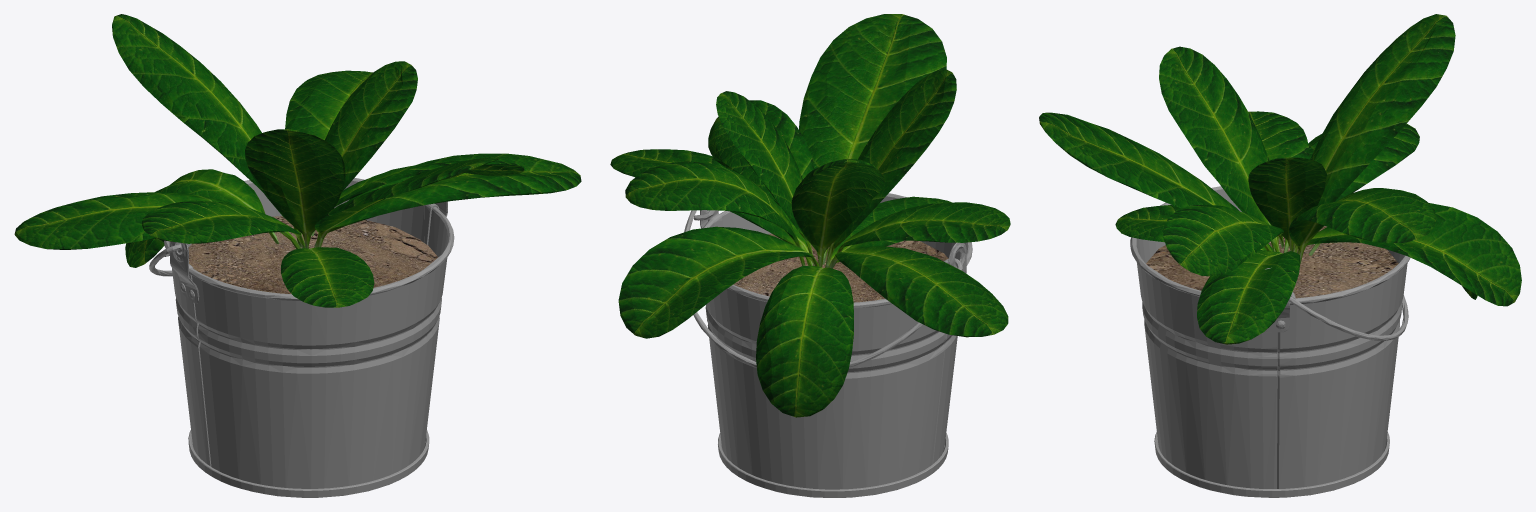
Rendered from Plant 1.FBX.
The picture shows the model from 3 angles, left to right: view 1: azimuth 30°, elevation 25°; view 2: azimuth 150°, elevation 25°; view 3: azimuth 270°, elevation 25°; orthographic projection. The views are drawn at different scales.
Parts seen in each view (by area): view 1: Plant 1; view 2: Plant 1; view 3: Plant 1.
Boxes of the visible parts, x1,y1,x2,y2 form: Plant 1: [14, 14, 581, 497]; Plant 1: [610, 14, 1010, 497]; Plant 1: [1039, 14, 1521, 497].
Bounding box in the file's own units: 299 × 266 × 233.
3 materials, 2 textured.
